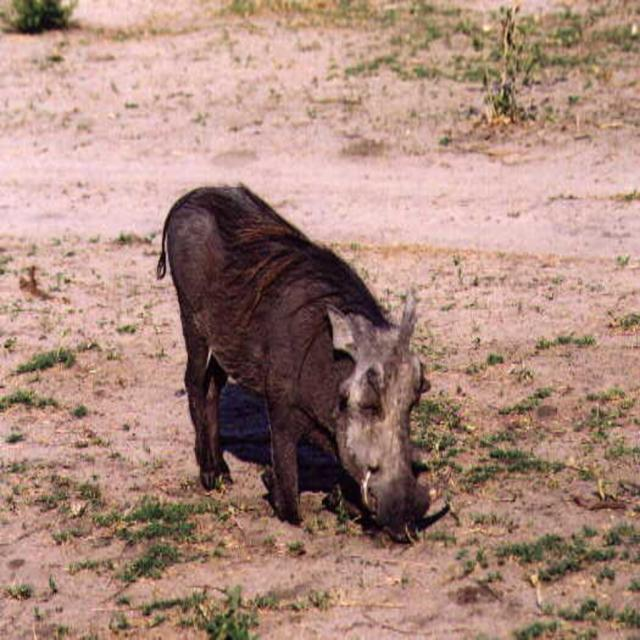Pig: (151, 178, 433, 548)
